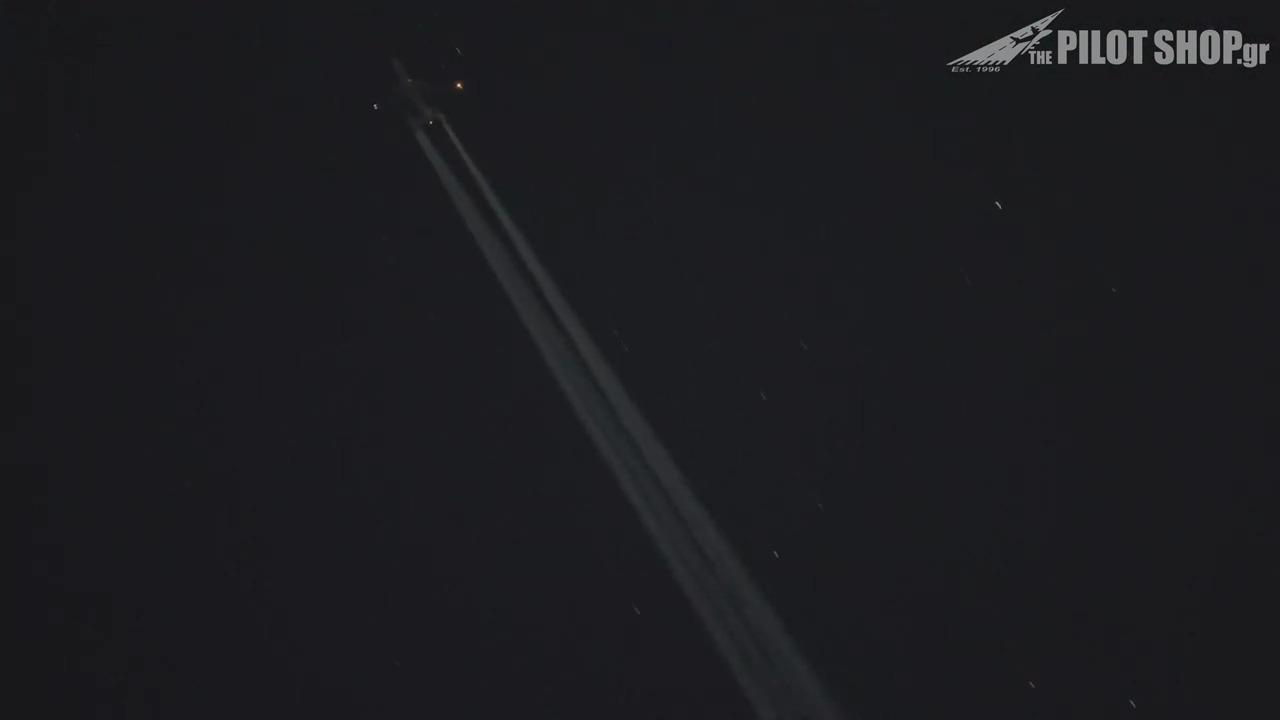Plane: (328, 27, 502, 166)
